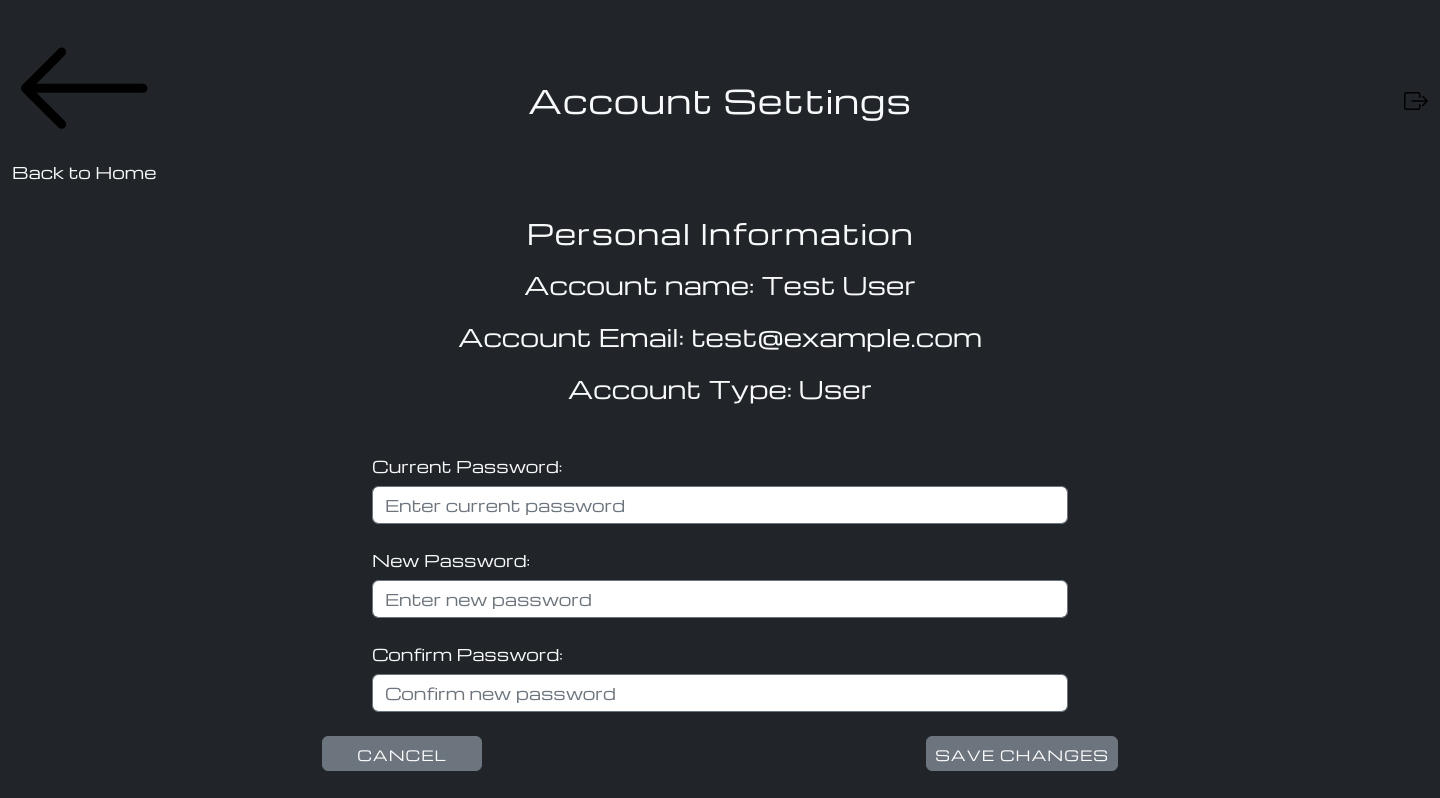
Test: AccountSettings Component › validates password change form
# Submit with empty fields
Click the button "Save Changes" at (1022, 754), box [926,736,1118,771]
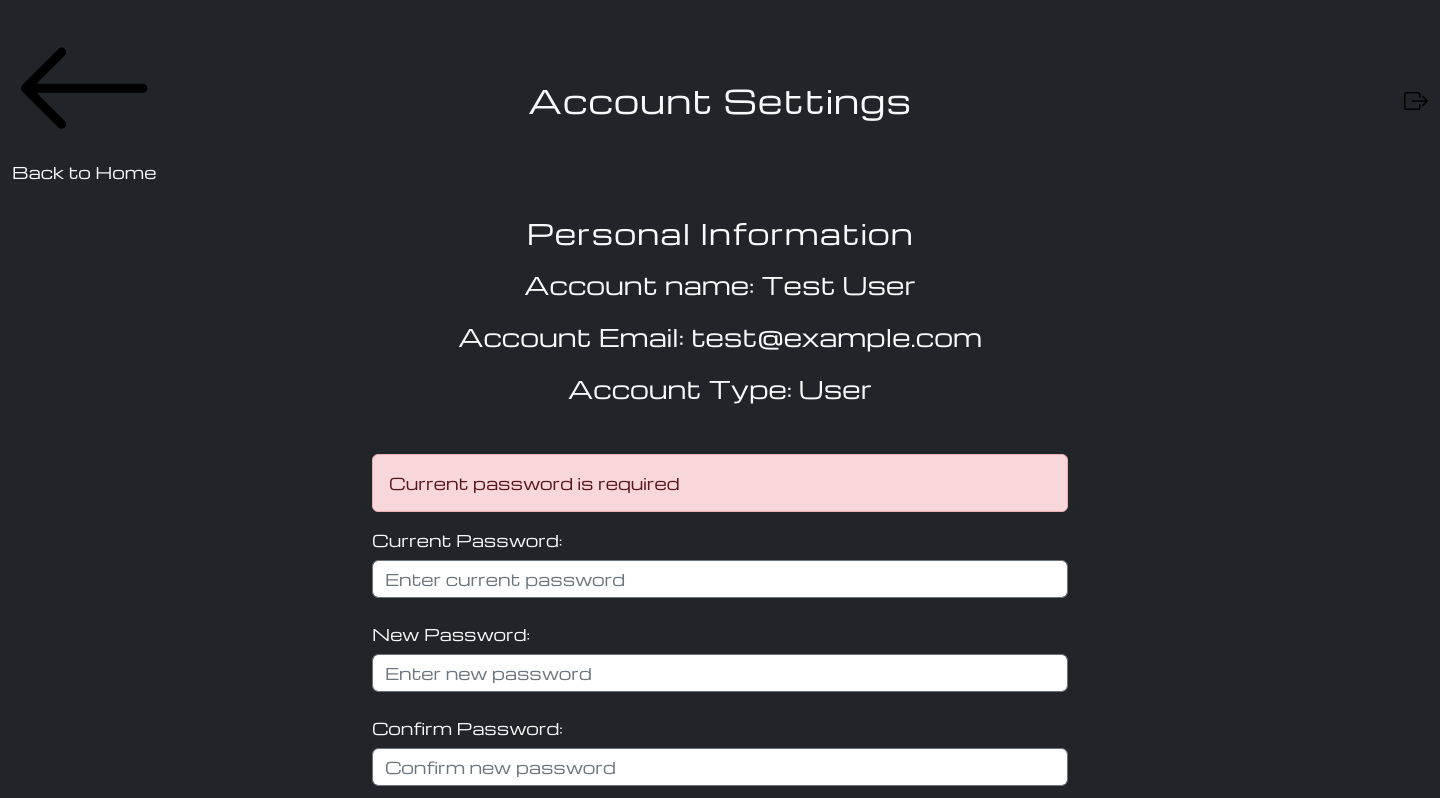
Expected: the text "Current password is required" is shown, [372,454,1068,512]
# Fill current password but leave new passwords empty
Type "password123" into the password field labelled "Current Password:" at (720, 579), box [372,560,1068,598]
(page scrolled)
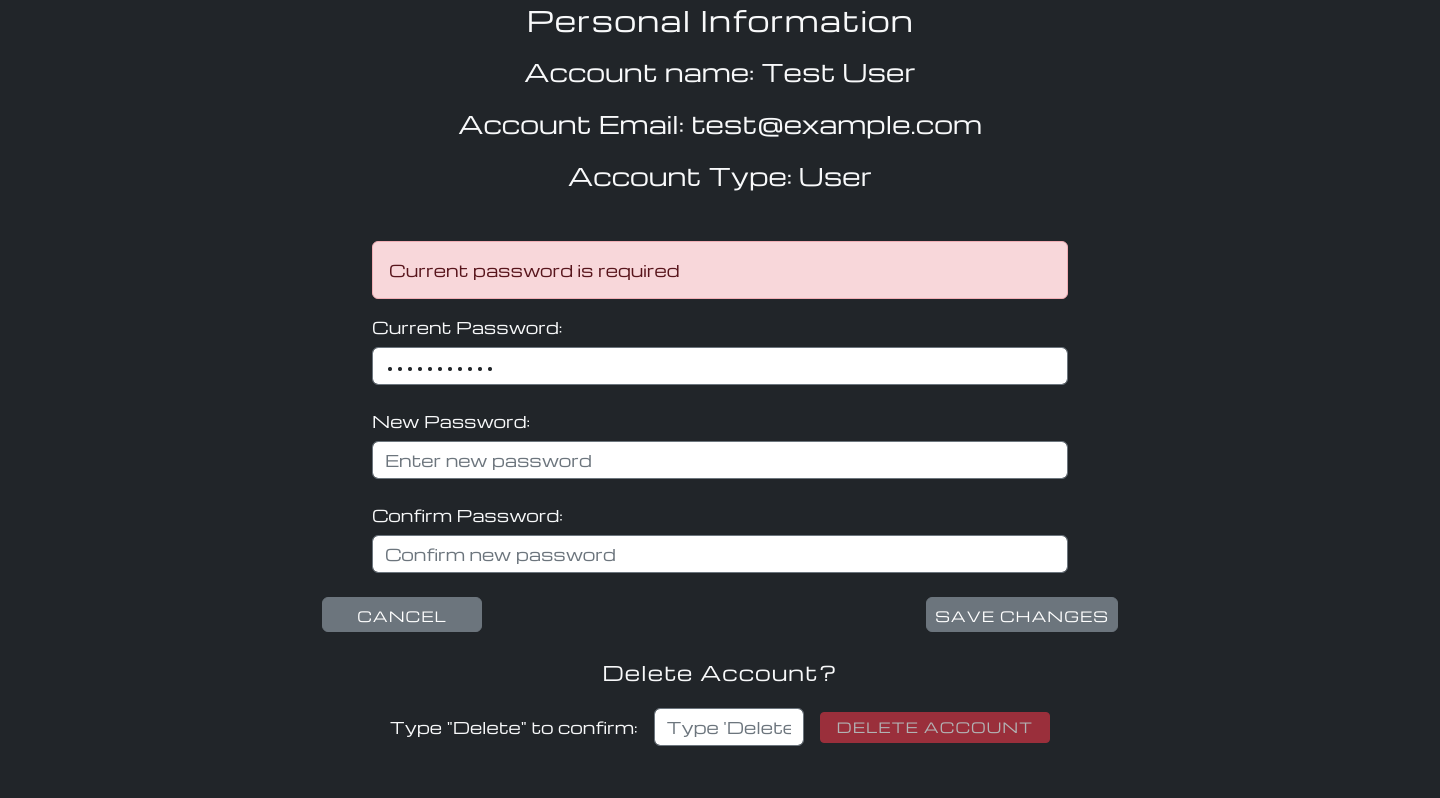
Click the button "Save Changes" at (1022, 614), box [926,597,1118,632]
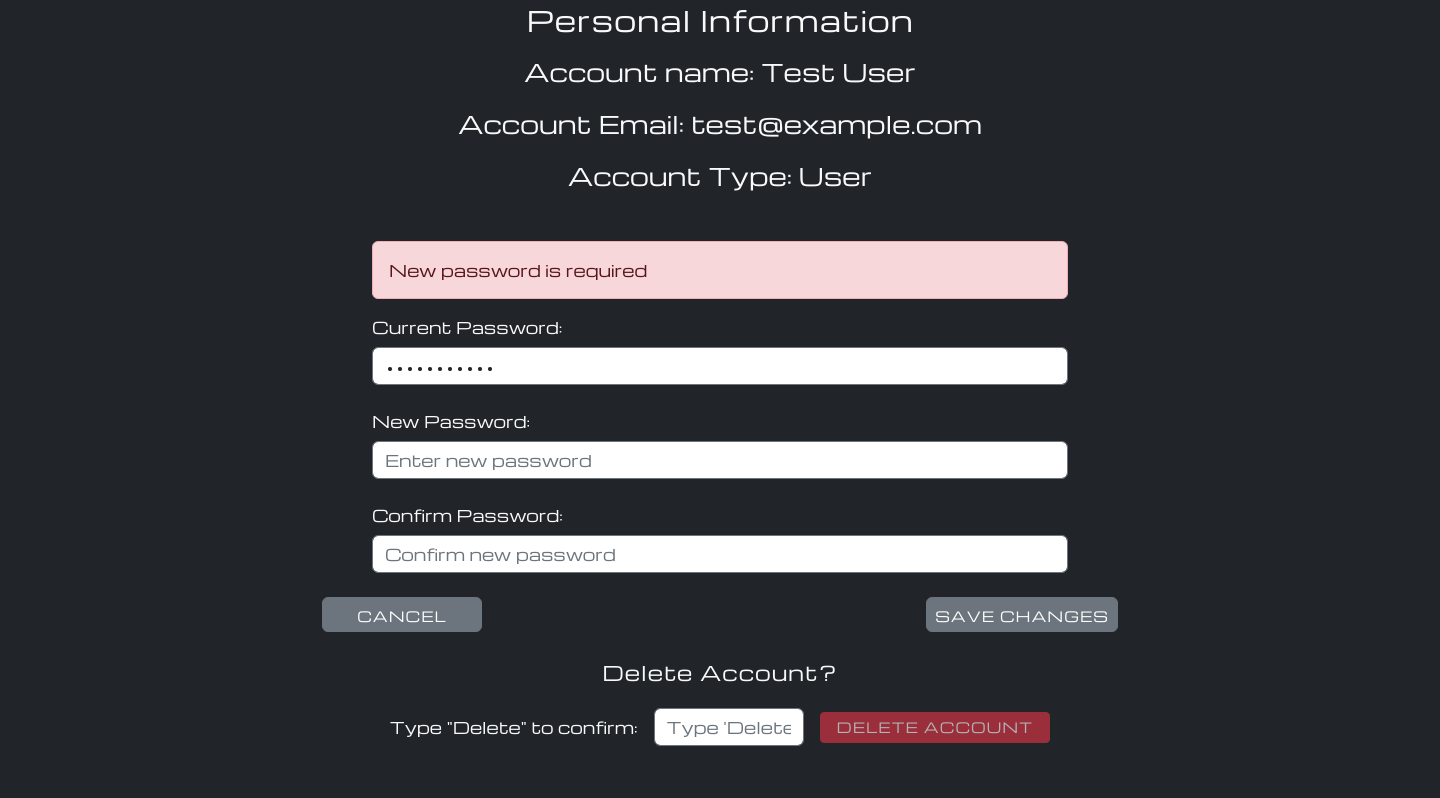
Expected: the text "New password is required" is shown, [372,241,1068,299]
# Fill non-matching passwords
Type "newpassword123" into the password field labelled "New Password:" at (720, 460), box [372,441,1068,479]
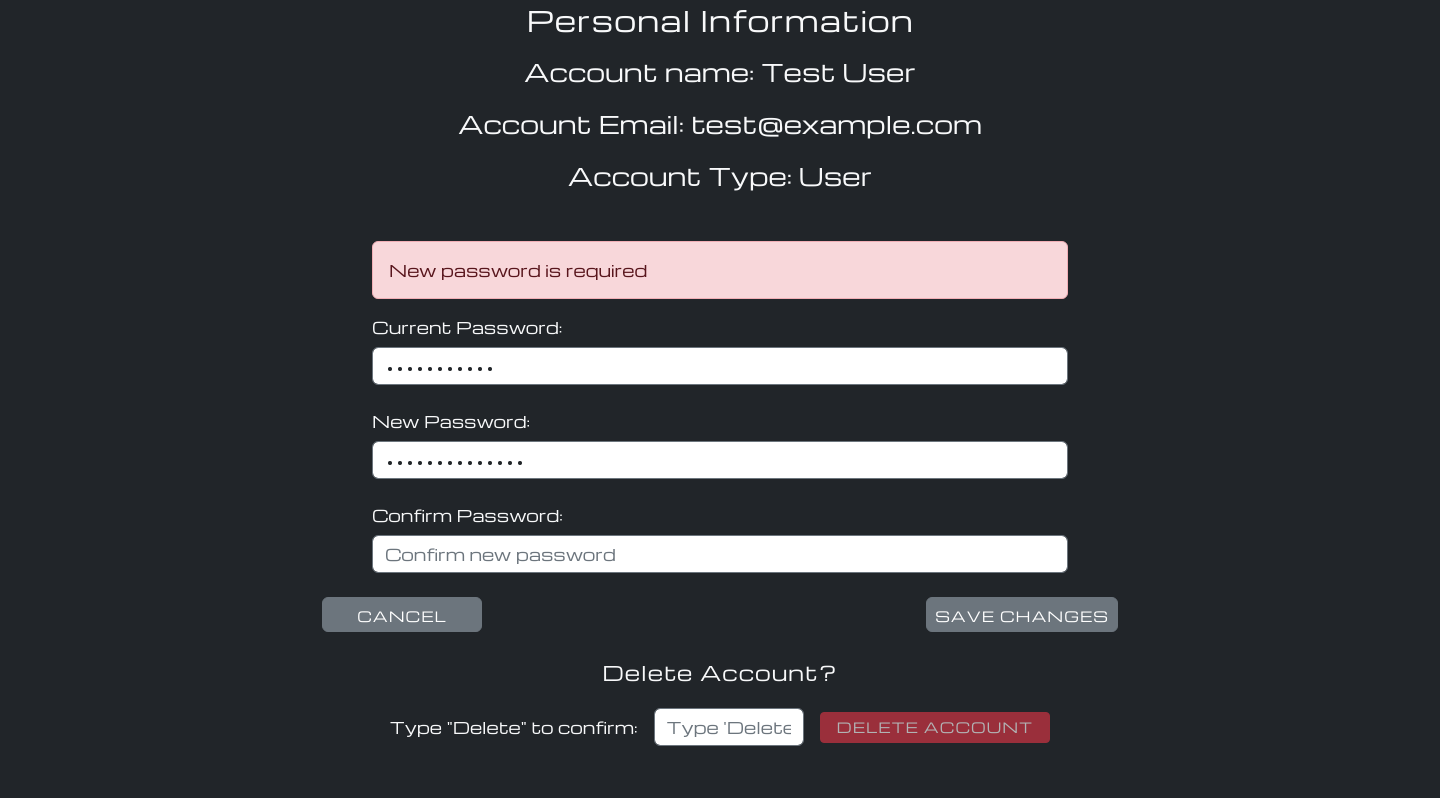
Type "differentpassword" into the password field labelled "Confirm Password:" at (720, 554), box [372,535,1068,573]
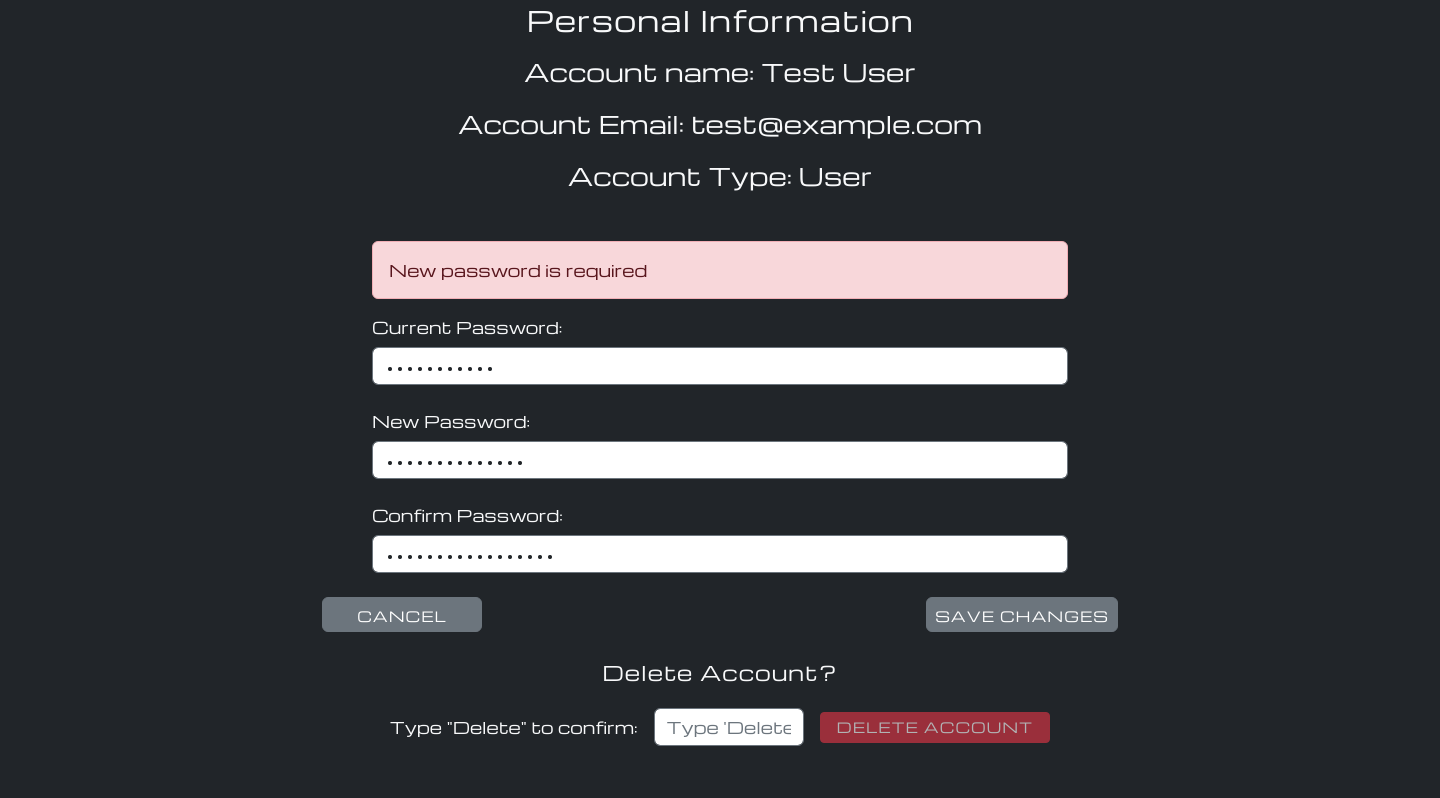
Click the button "Save Changes" at (1022, 614), box [926,597,1118,632]
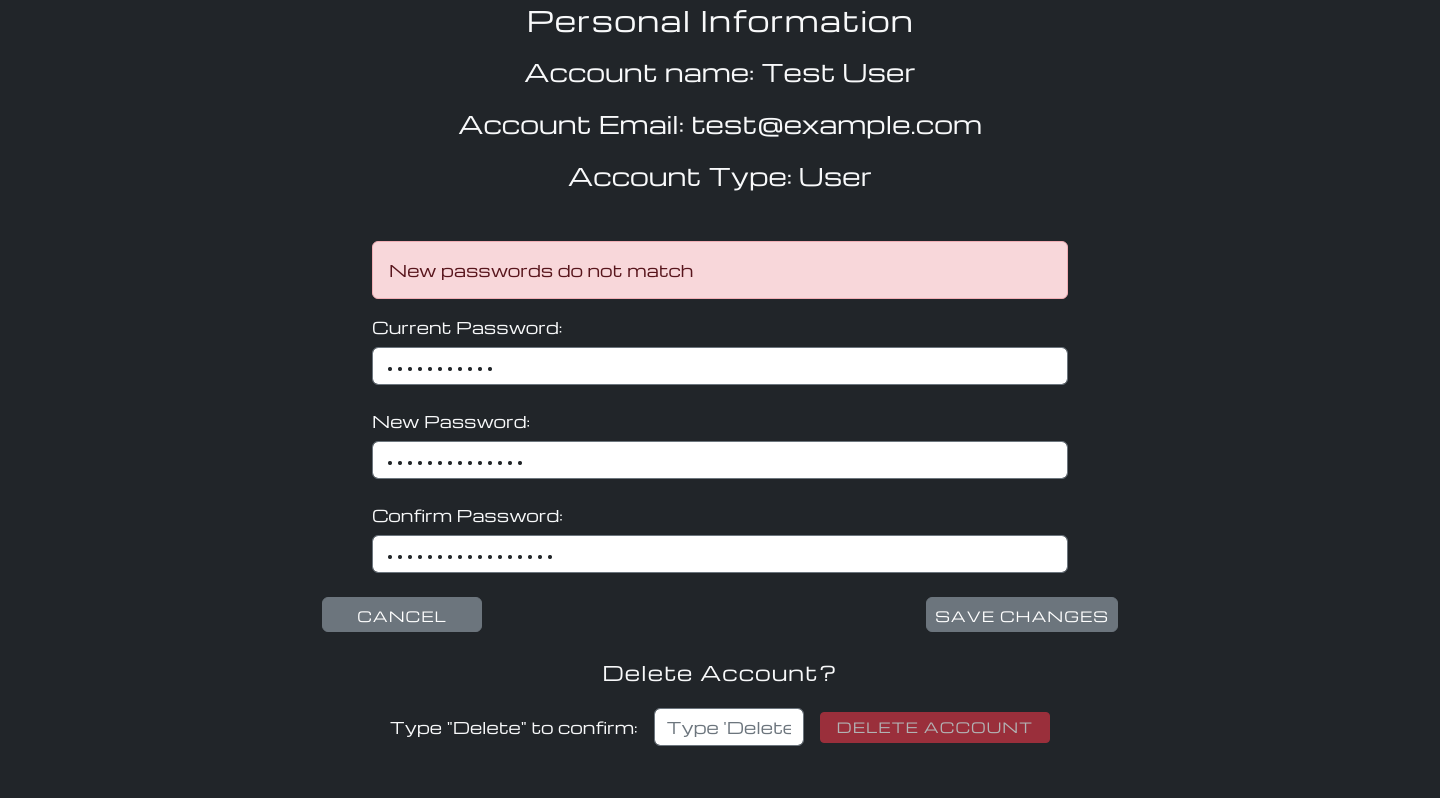
Expected: the text "New passwords do not match" is shown, [372,241,1068,299]
